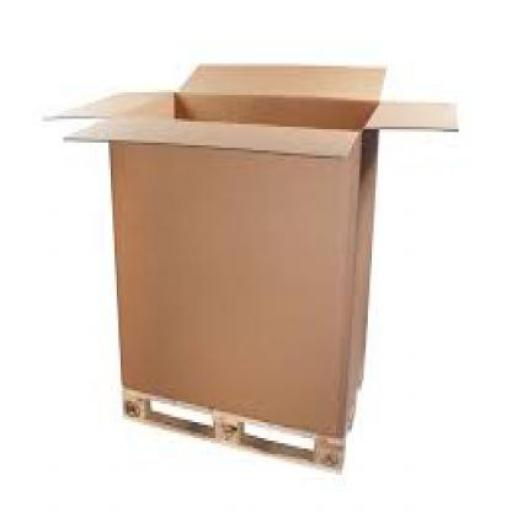cardboard: (41, 62, 455, 436)
